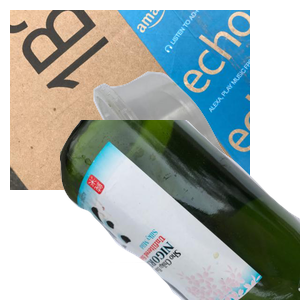cardboard: (10, 10, 250, 190)
glass: (60, 120, 300, 300)
plastic: (91, 69, 300, 249)
trash: (60, 120, 300, 300)
